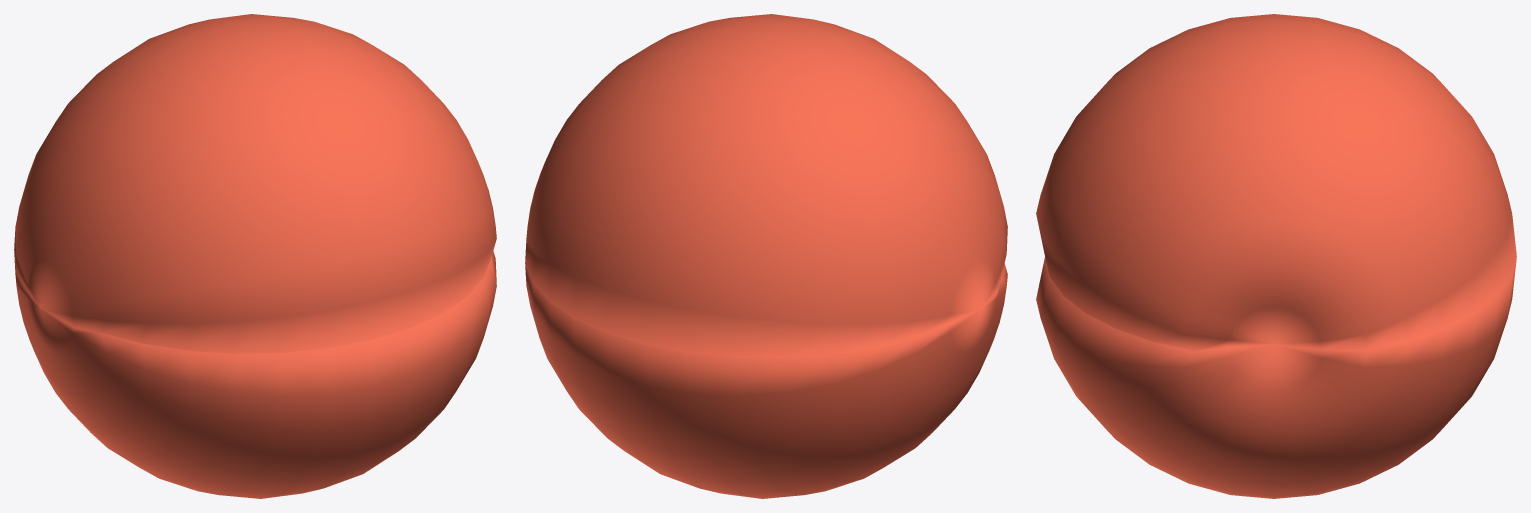
The model's file is Fruit_Peach_Sliced.fbx.
3 renders of one model, left to right at view 1: azimuth 30°, elevation 25°; view 2: azimuth 150°, elevation 25°; view 3: azimuth 270°, elevation 25°, orthographic.
Parts seen in each view (by area): view 1: Peach_Top, Peach_Bottom; view 2: Peach_Top, Peach_Bottom; view 3: Peach_Top, Peach_Bottom.
Boxes of the visible parts, left/top/right/bottom form: Peach_Top: left=14, top=14, right=496, bottom=353; Peach_Bottom: left=14, top=251, right=496, bottom=498; Peach_Top: left=525, top=14, right=1007, bottom=358; Peach_Bottom: left=525, top=263, right=1007, bottom=498; Peach_Top: left=1036, top=14, right=1516, bottom=351; Peach_Bottom: left=1036, top=257, right=1516, bottom=498.
Size of the model in its own units: 195 by 200 by 198.
